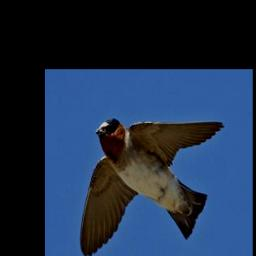Swallow: (78, 118, 226, 256)
